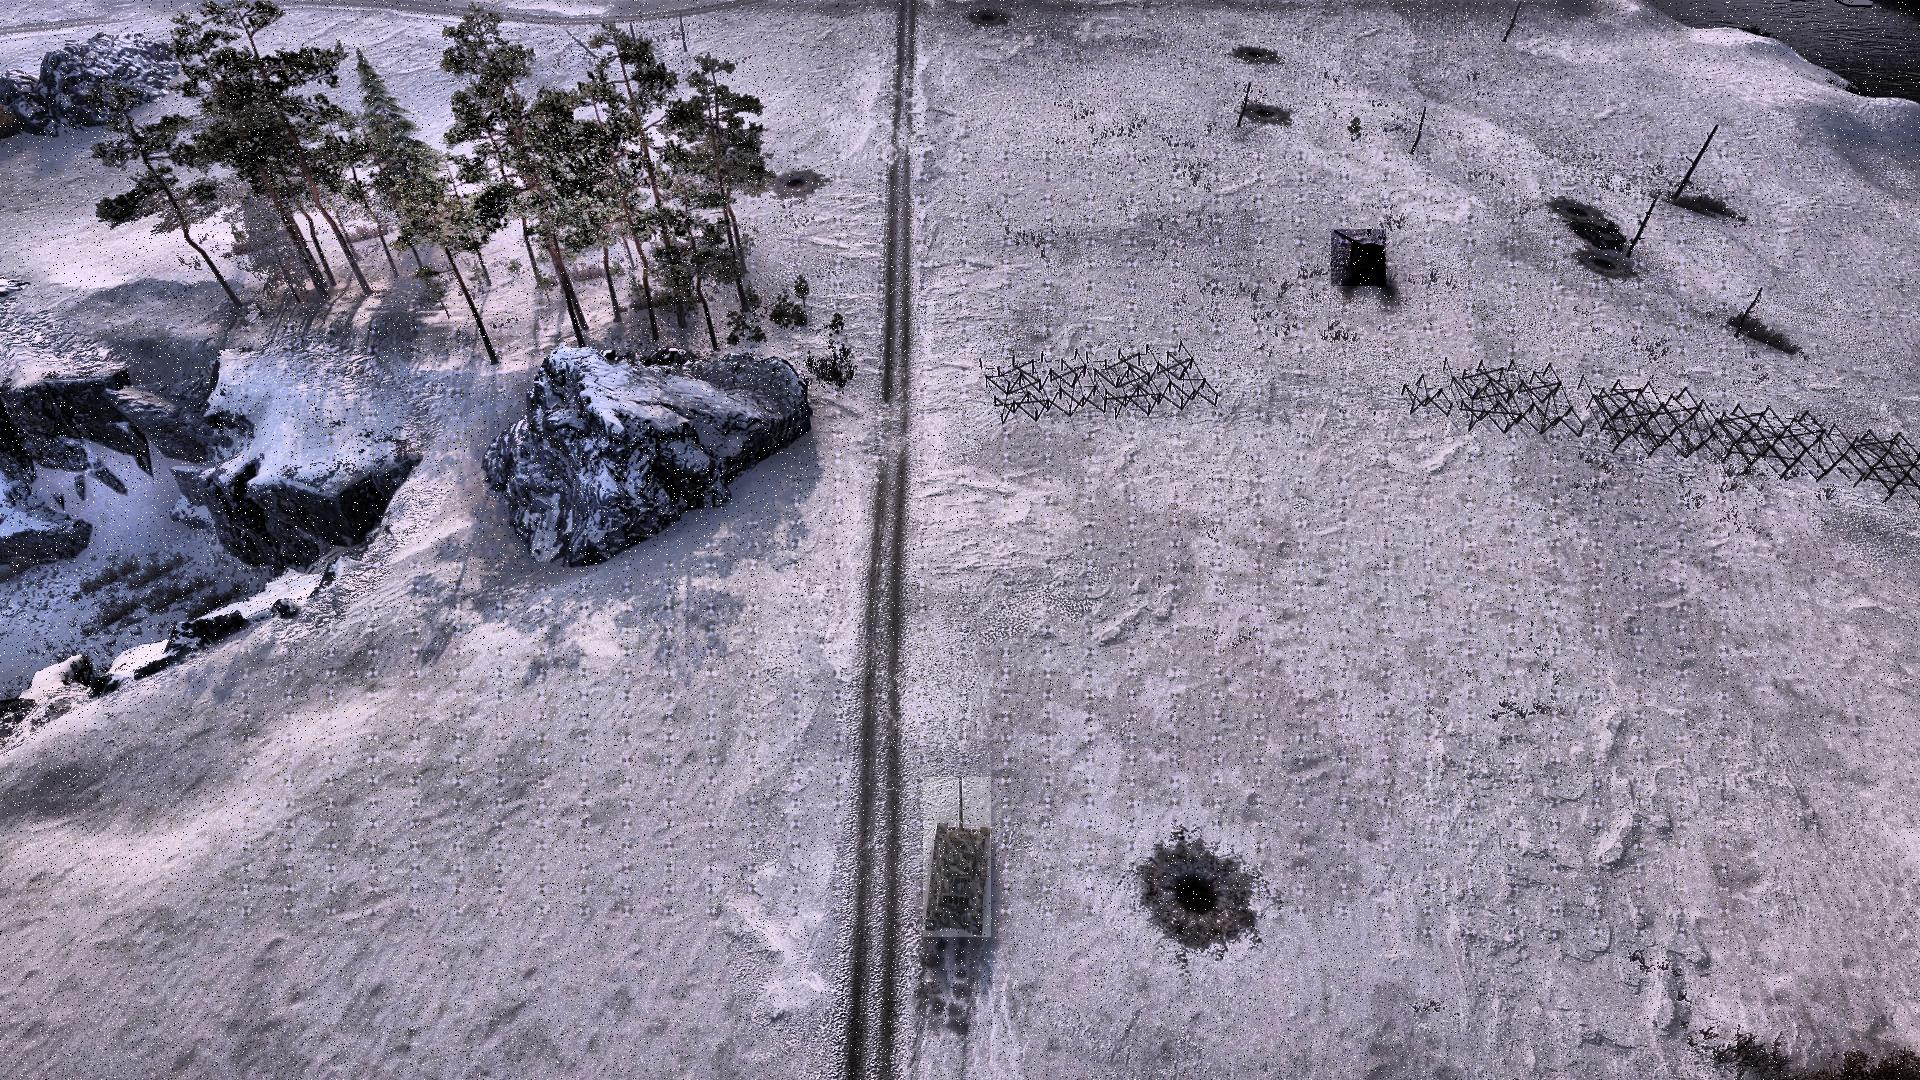military-vehicle: (924, 778, 992, 938), (1332, 229, 1386, 286)
